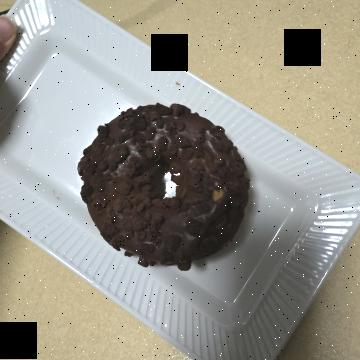doughnut: (90, 109, 284, 300)
